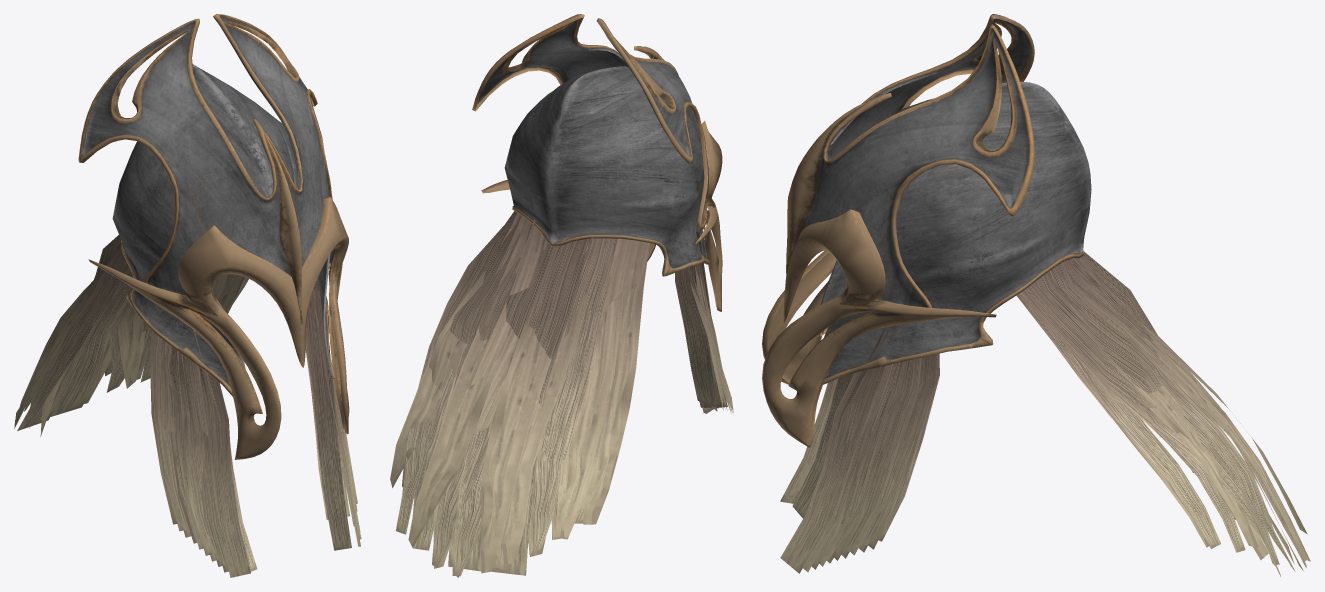
The model's file is mkwd_inf2_t3_helmet_silver_hc.fbx.
3 renders of one model, left to right at view 1: azimuth 30°, elevation 25°; view 2: azimuth 150°, elevation 25°; view 3: azimuth 270°, elevation 25°, orthographic. The views are drawn at different scales.
Visible parts, largest first — view 1: mkwd_inf2_t3_helmet_silver_hc.lod0.0, mkwd_inf2_t3_helmet_silver_hc.lod0.1; view 2: mkwd_inf2_t3_helmet_silver_hc.lod0.1, mkwd_inf2_t3_helmet_silver_hc.lod0.0; view 3: mkwd_inf2_t3_helmet_silver_hc.lod0.0, mkwd_inf2_t3_helmet_silver_hc.lod0.1.
Boxes of the visible parts, bbox=[...] form: mkwd_inf2_t3_helmet_silver_hc.lod0.0: bbox=[78, 14, 349, 459]; mkwd_inf2_t3_helmet_silver_hc.lod0.1: bbox=[14, 235, 361, 577]; mkwd_inf2_t3_helmet_silver_hc.lod0.1: bbox=[390, 211, 733, 577]; mkwd_inf2_t3_helmet_silver_hc.lod0.0: bbox=[472, 14, 722, 311]; mkwd_inf2_t3_helmet_silver_hc.lod0.0: bbox=[762, 14, 1091, 447]; mkwd_inf2_t3_helmet_silver_hc.lod0.1: bbox=[780, 252, 1310, 576].
Size of the model in its own units: 0.2693 by 0.4991 by 0.5426.
Materials: 2 (2 with a texture image).
